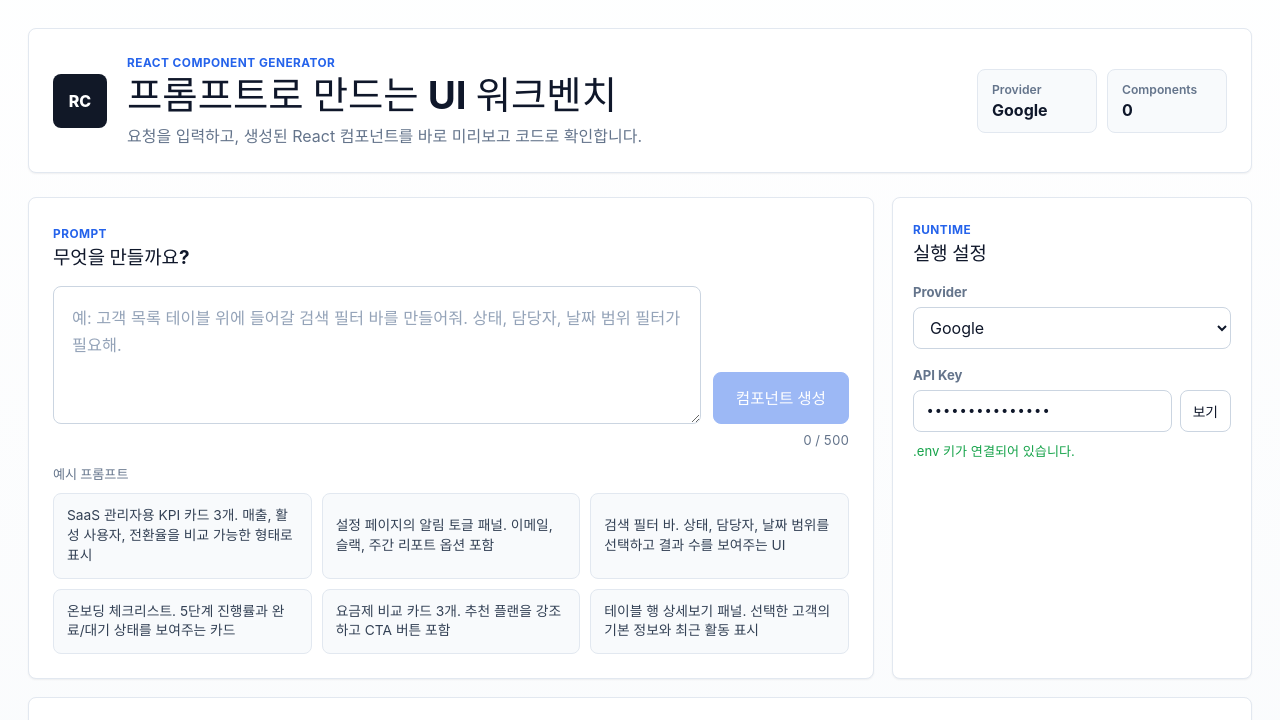
it: App 상태 영속화 › Provider를 전환하면 해당 provider의 키만 보이고 다른 키는 유지된다
Expected: the password field labelled "API Key" holds "google-test-key", [913,390,1172,432]
Select "Anthropic" in the dropdown labelled "Provider" at (1072, 328), box [913,307,1231,349]
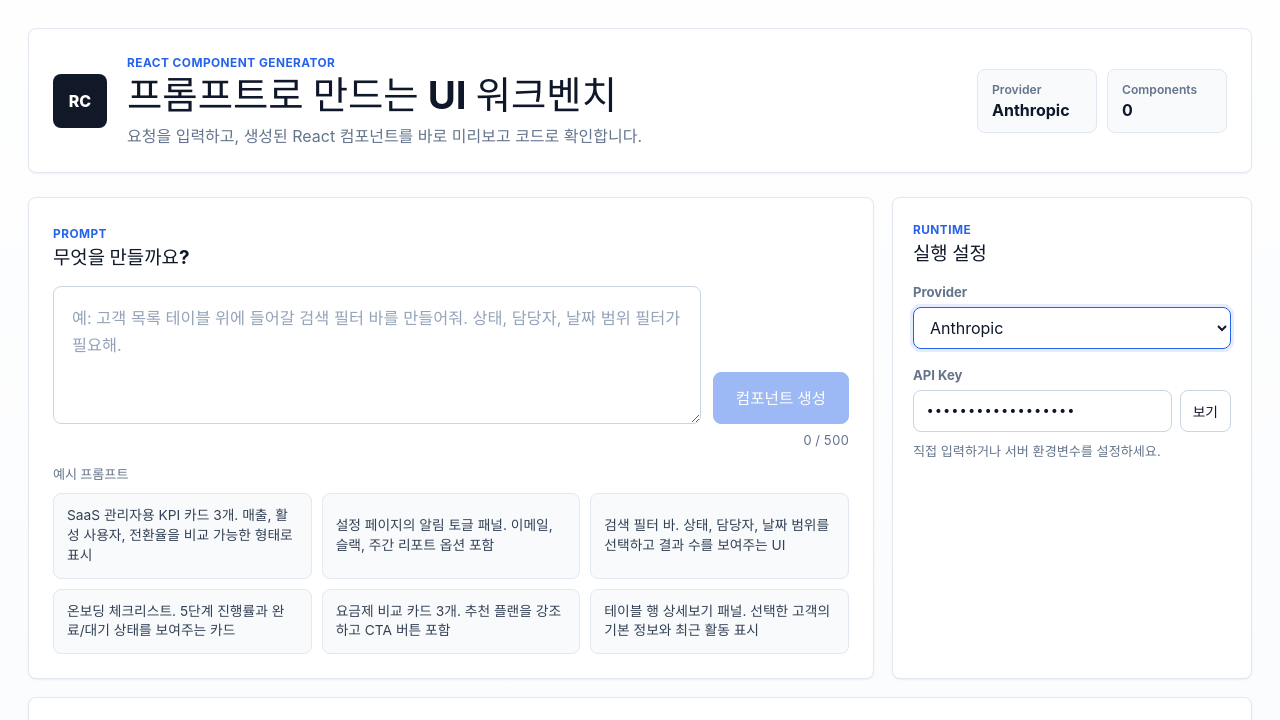
Result: the password field labelled "API Key" holds "anthropic-test-key" at [913,390,1172,432]
